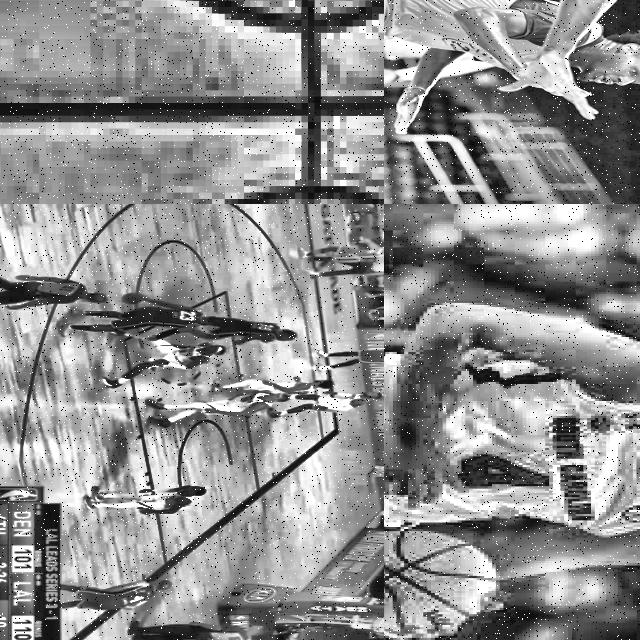Basketball: (0, 0, 384, 204), (384, 531, 495, 636), (123, 293, 147, 304)
